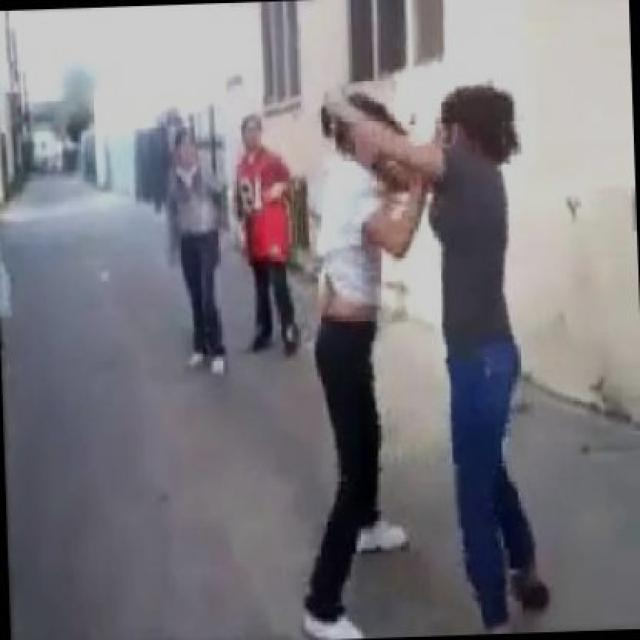fight: (295, 51, 559, 637)
non-fight: (234, 114, 298, 352), (164, 132, 227, 371)
